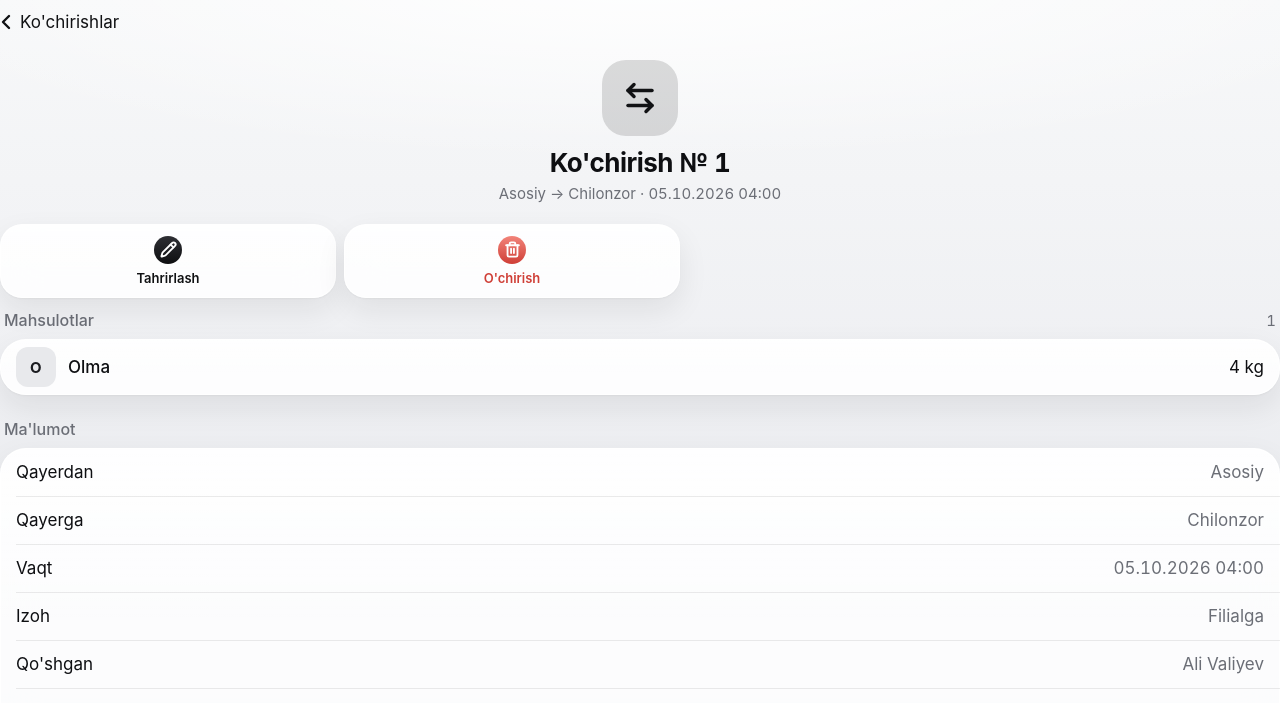
deleting the transfer brings the products back to the source and leads to the list
Step 1. Click the button "O'chirish" → (512, 261), box [344,224,680,298]
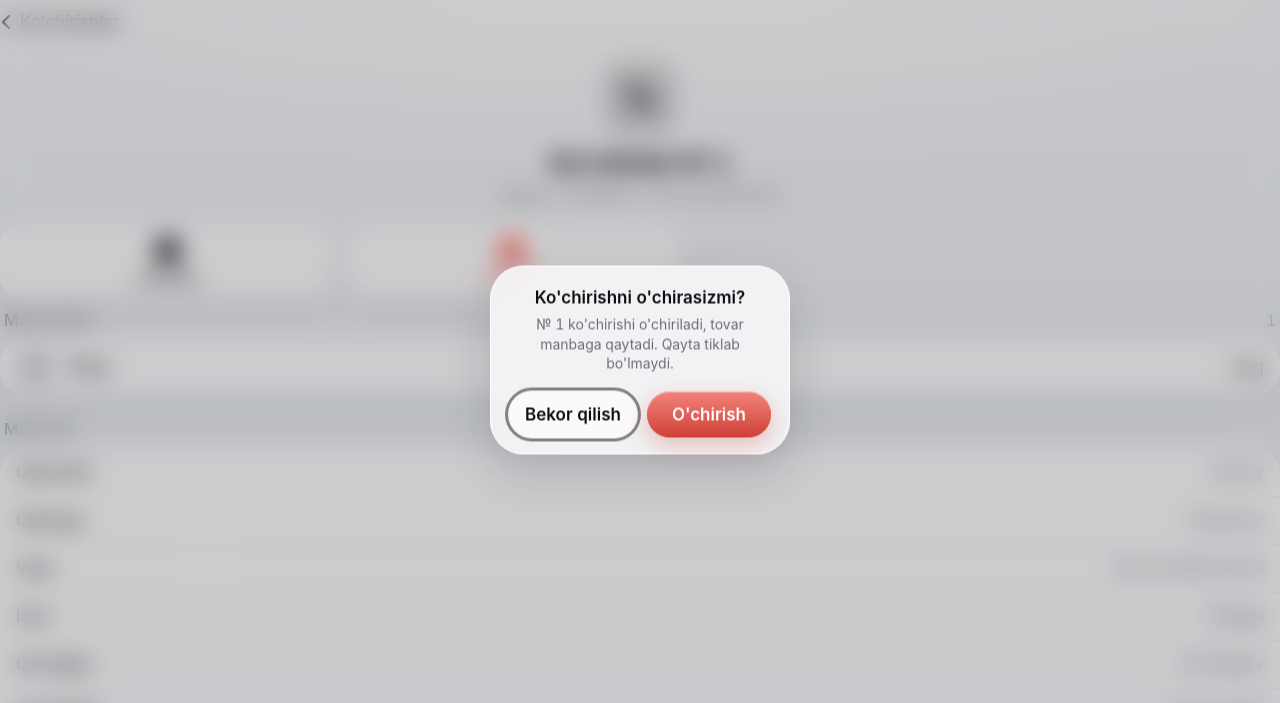
Expected: the text "№ 1 ko'chirishi o'chiriladi, tovar manbaga qaytadi. Qayta tiklab bo'lmaydi." is shown, [536,316,744,371]
Step 2. Click the button "O'chirish" → (709, 414), box [646,390,772,438]
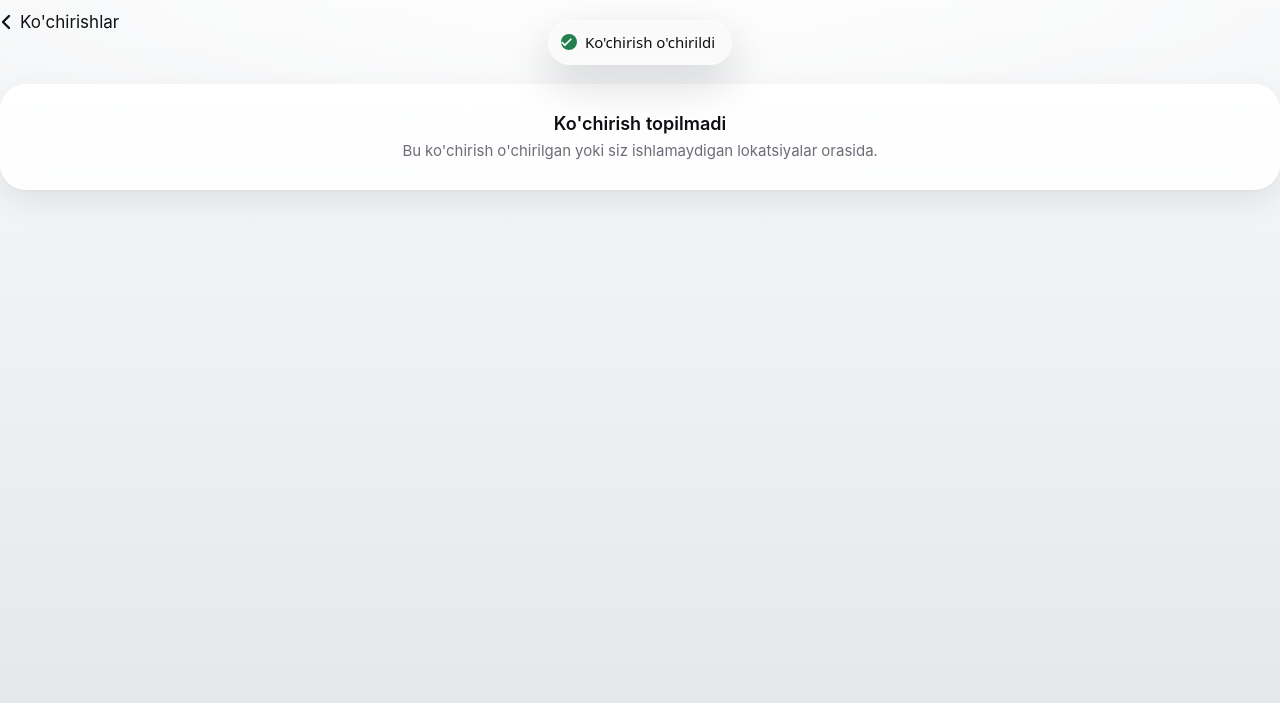
Expected: the text "Ko'chirish o'chirildi" is shown, [585,31,715,54]
